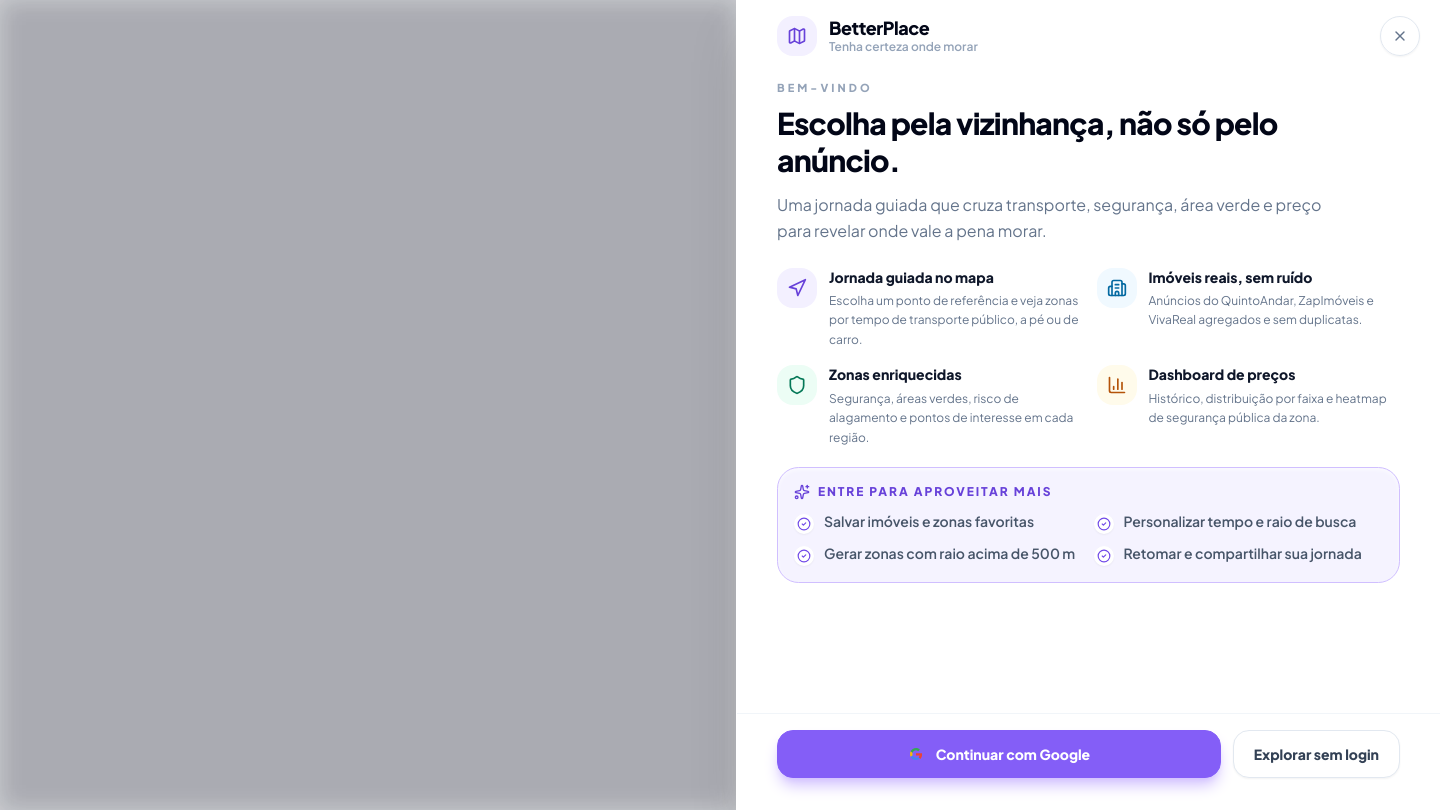
AuthAccessCard › mostra aviso explicito quando Google nao esta configurado
Expected: the heading "Escolha pela vizinhança, não só pelo anúncio." is shown, [777,104,1353,180]
What coordinates should you click on to do the following:
click the button "Continuar com Google"
I would click on:
 (999, 754)
Its box is [777,730,1221,778].
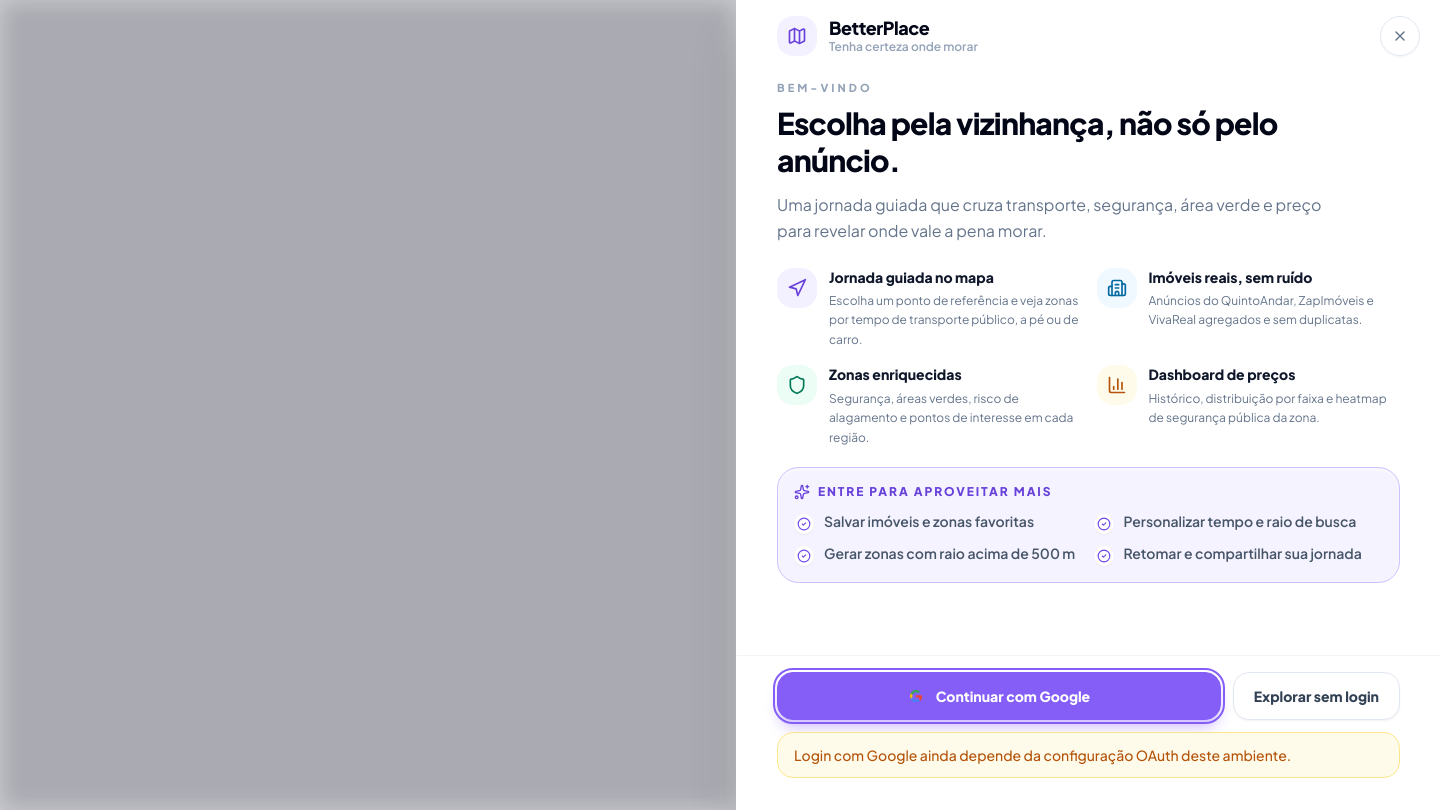
Result: the text "Login com Google ainda depende da configuração OAuth deste ambiente." is shown at [777,732,1400,778]
